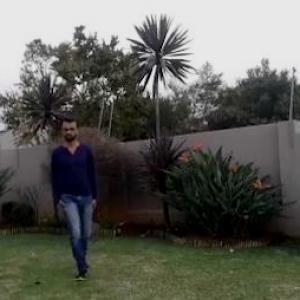follow: (55, 113, 100, 268)
